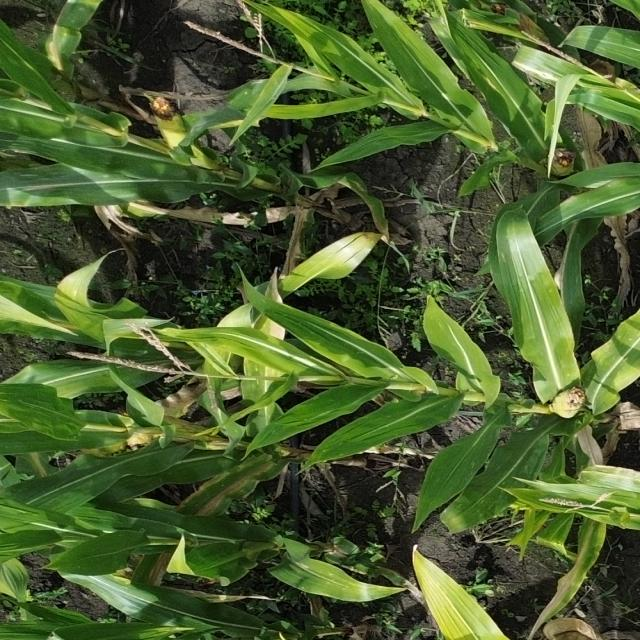gray-leaf-spot: (8, 168, 70, 198)
northern-leaf-blight: (198, 457, 264, 515), (551, 546, 589, 612), (41, 5, 76, 70), (507, 56, 564, 84)
southern-leaf-blight: (284, 556, 352, 592), (472, 478, 524, 520), (601, 326, 639, 370), (295, 393, 339, 425), (317, 431, 355, 461)
